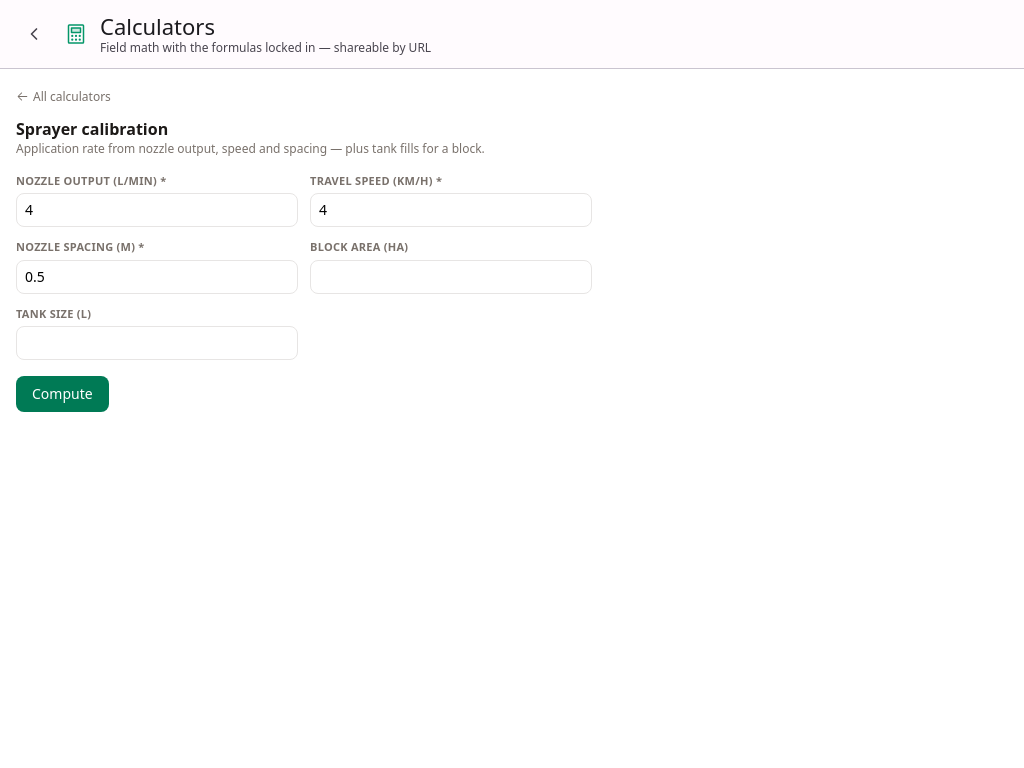
CalculatorsPage › renders sanity warnings amber
Step 1. Click the button "Compute" → (62, 394), box [16,376,109,412]
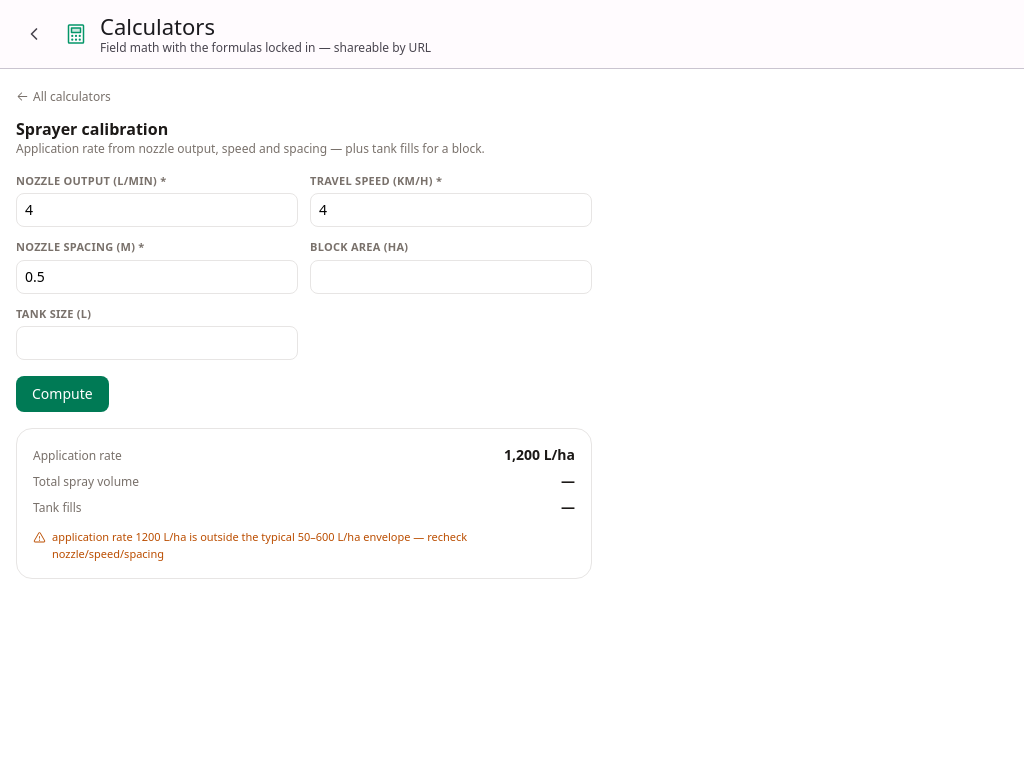
Now the list item "outside the typical" is shown, box [52,529,467,560]
